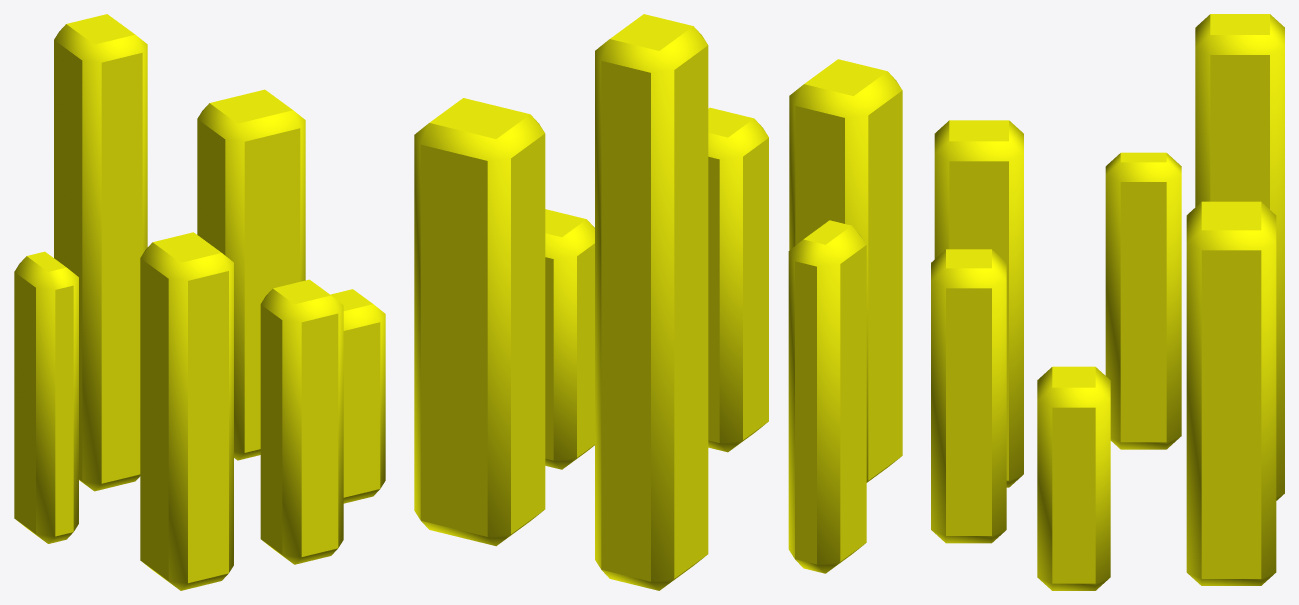
The model's file is Grass_Big.glb.
3 renders of one model, left to right at view 1: azimuth 30°, elevation 25°; view 2: azimuth 150°, elevation 25°; view 3: azimuth 270°, elevation 25°, orthographic. The views are drawn at different scales.
Parts seen in each view (by area): view 1: Grass_Big; view 2: Grass_Big; view 3: Grass_Big.
Boxes of the visible parts, x1,y1,x2,y2 form: Grass_Big: [14, 14, 385, 590]; Grass_Big: [414, 14, 902, 590]; Grass_Big: [931, 14, 1284, 590].
Bounding box in the file's own units: 0.776 × 1.04 × 0.7102.
1 material, 1 textured.
